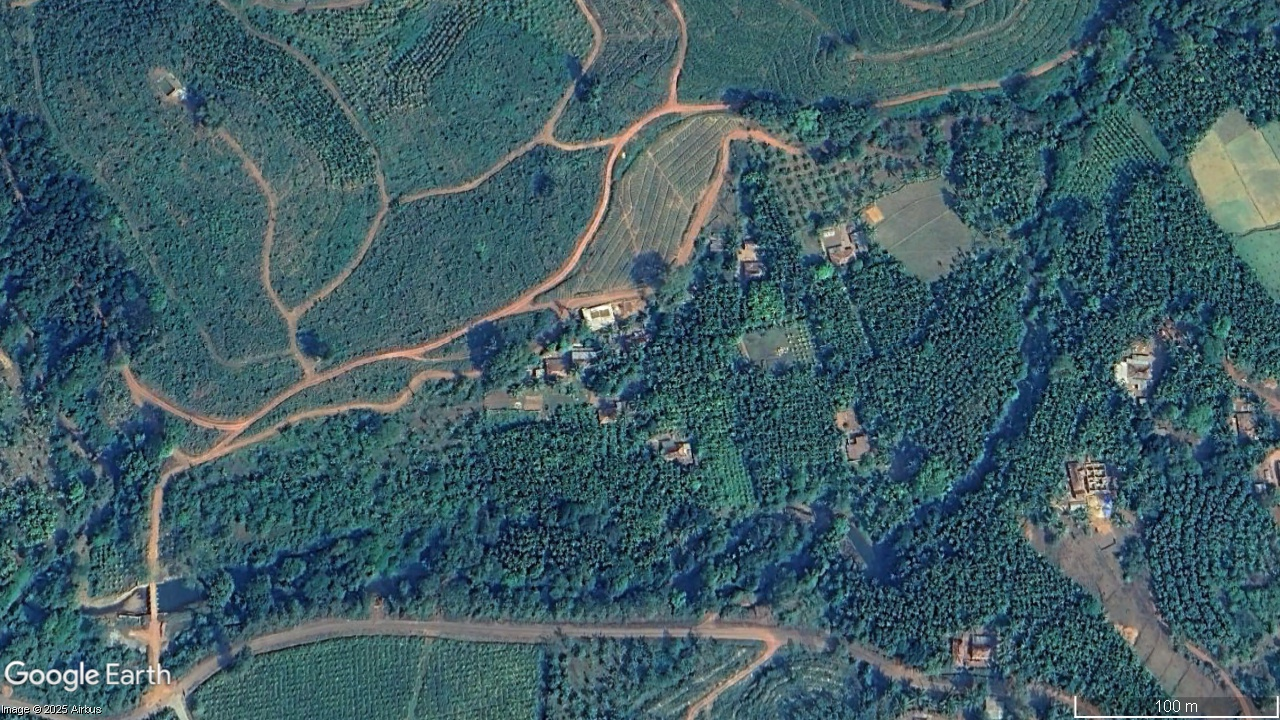arecanut: (493, 248, 1147, 684), (1078, 168, 1280, 414), (1113, 30, 1280, 155)
